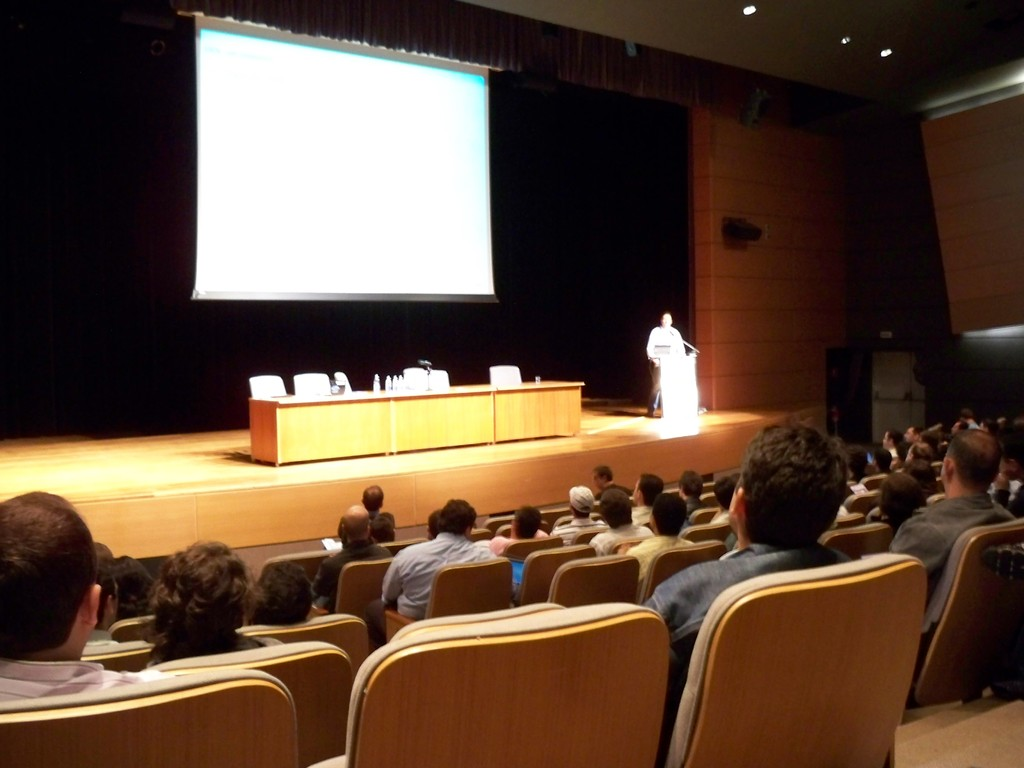Chair: (80, 454, 952, 765), (308, 600, 661, 767), (664, 556, 951, 756), (0, 671, 301, 767), (911, 517, 1023, 708)
